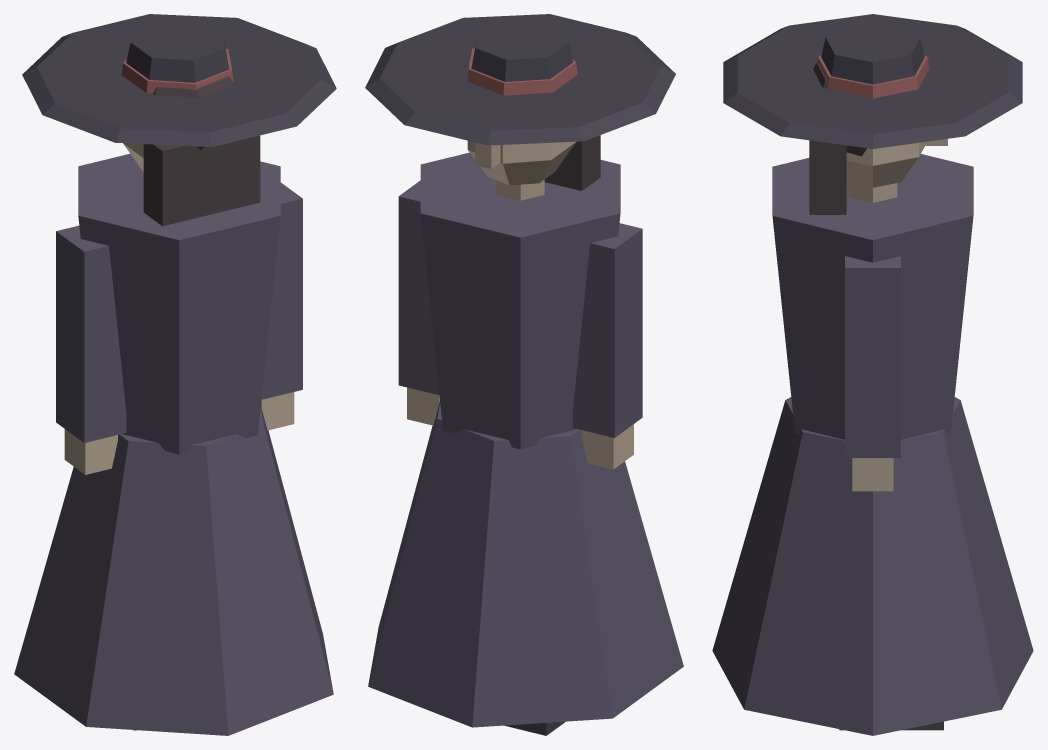
File: personaje_irene.glb
The picture shows the model from 3 angles, left to right: view 1: azimuth 30°, elevation 25°; view 2: azimuth 150°, elevation 25°; view 3: azimuth 270°, elevation 25°; orthographic projection.
Parts seen in each view (by area): view 1: Irene_Torso, Irene_Cabeza, Irene_BrazoIzq, Irene_BrazoDer; view 2: Irene_Torso, Irene_Cabeza, Irene_BrazoIzq, Irene_BrazoDer; view 3: Irene_Torso, Irene_Cabeza, Irene_BrazoDer.
Boxes of the visible parts, x1,y1,x2,y2 form: Irene_Torso: [14, 153, 333, 735]; Irene_Cabeza: [22, 14, 336, 226]; Irene_BrazoIzq: [56, 225, 126, 474]; Irene_BrazoDer: [261, 182, 302, 430]; Irene_Torso: [368, 152, 683, 727]; Irene_Cabeza: [365, 14, 675, 200]; Irene_BrazoIzq: [572, 223, 642, 469]; Irene_BrazoDer: [398, 180, 439, 425]; Irene_Torso: [712, 154, 1033, 735]; Irene_Cabeza: [723, 14, 1022, 214]; Irene_BrazoDer: [845, 256, 900, 491].
Bounding box in the file's own units: 0.86 × 1.94 × 0.8579.
